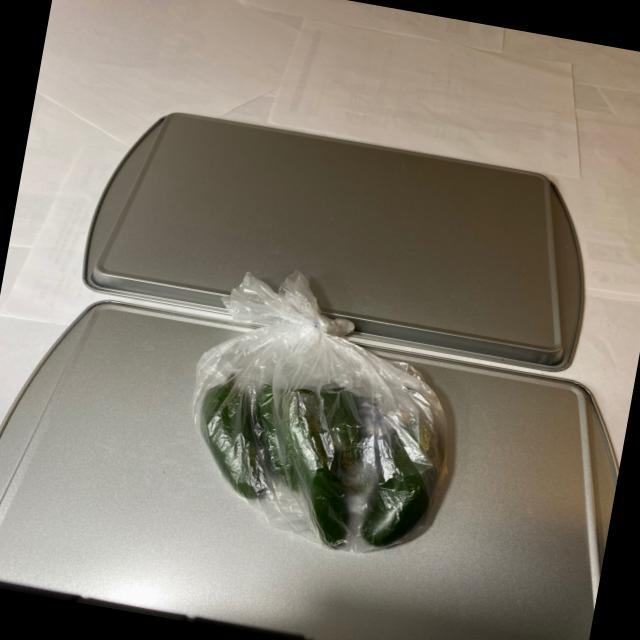chilli: (166, 308, 474, 566)
